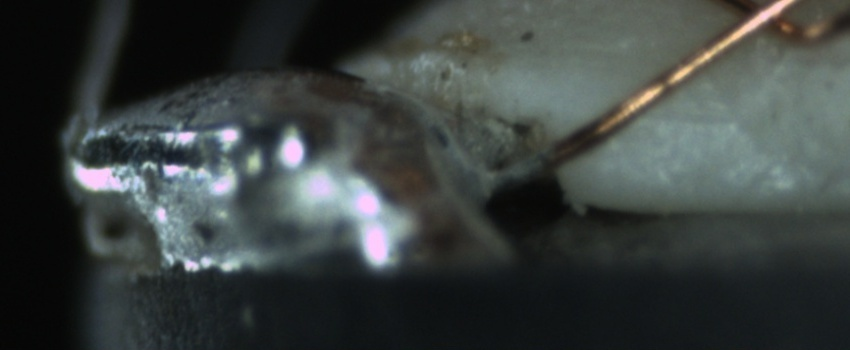CL: (711, 2, 817, 43)
DL: (618, 90, 739, 144)
